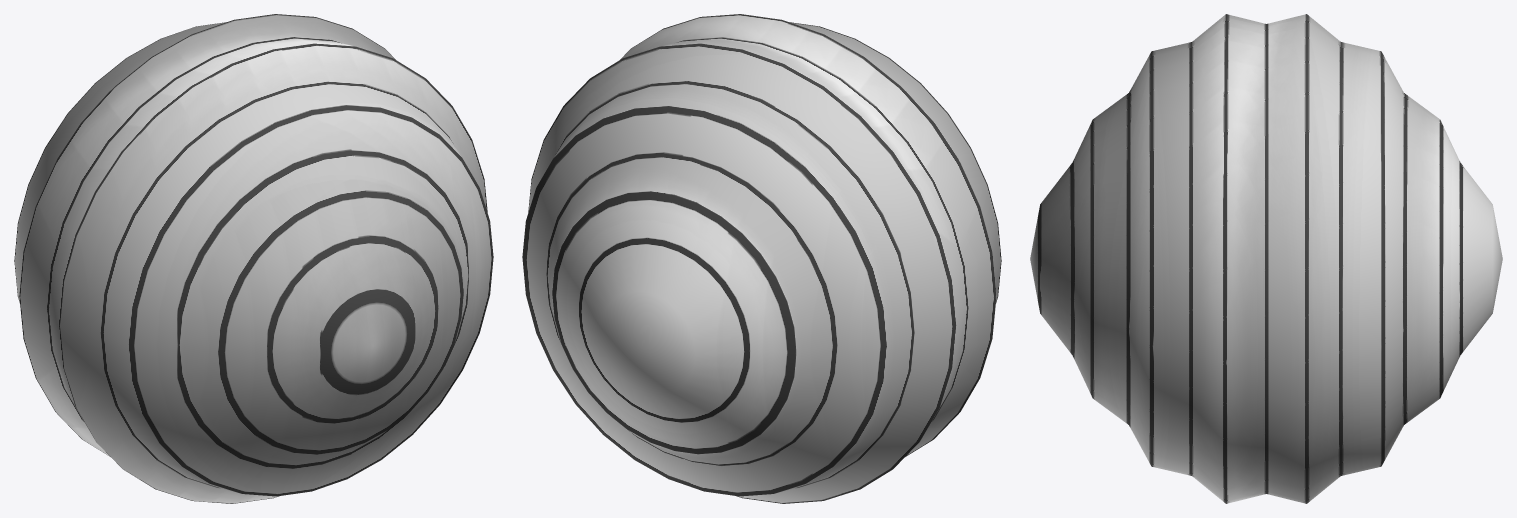
The model's file is Combustible.fbx.
3 renders of one model, left to right at view 1: azimuth 30°, elevation 25°; view 2: azimuth 150°, elevation 25°; view 3: azimuth 270°, elevation 25°, orthographic.
Parts seen in each view (by area): view 1: Combustible; view 2: Combustible; view 3: Combustible.
Part boxes in pixels (x1,y1,x2,y2): Combustible: (14,14,493,503); Combustible: (522,14,1001,503); Combustible: (1030,14,1502,503).
Size of the model in its own units: 0.9529 by 0.9529 by 0.9185.
1 material, 1 textured.
